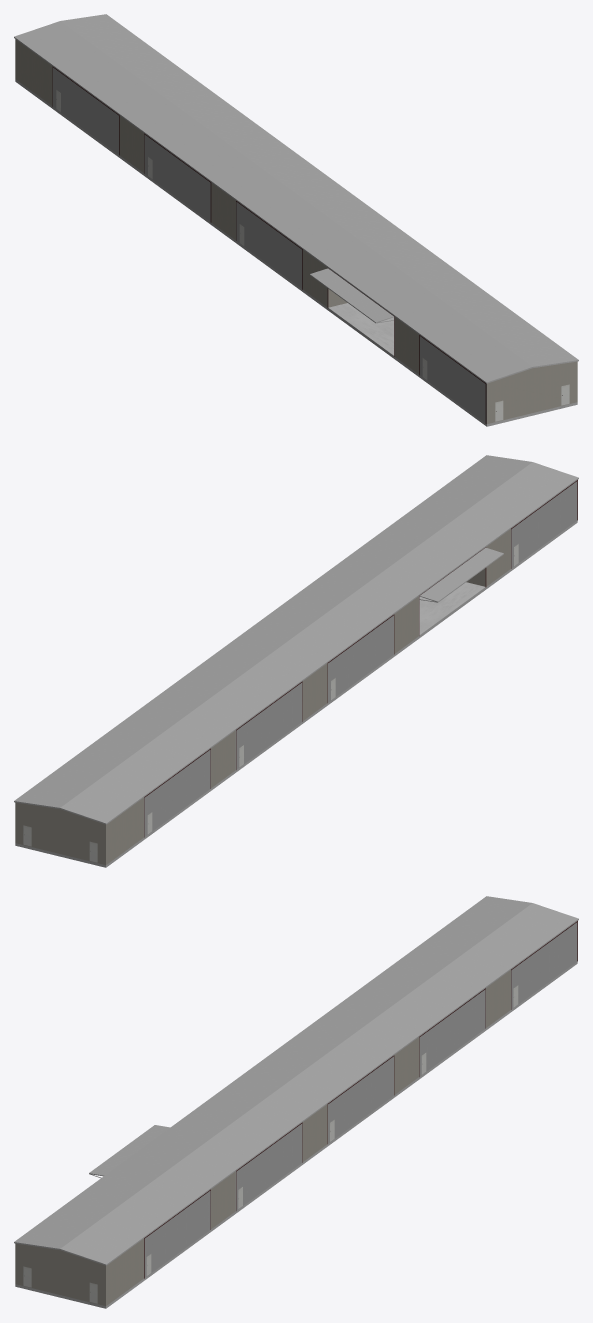
File: gen_open_hangar04-99x11x5-cbj_LOD02.gltf
3 renders of one model, top to bottom at view 1: azimuth 30°, elevation 25°; view 2: azimuth 150°, elevation 25°; view 3: azimuth 330°, elevation 25°, orthographic.
Parts seen in each view (by area): view 1: Cube.016; view 2: Cube.016; view 3: Cube.016.
Boxes of the visible parts, x1,y1,x2,y2 form: Cube.016: (14, 14, 578, 426); Cube.016: (14, 455, 578, 867); Cube.016: (14, 896, 578, 1308).
Bounding box in the file's own units: 13.37 × 5.7 × 99.2.
